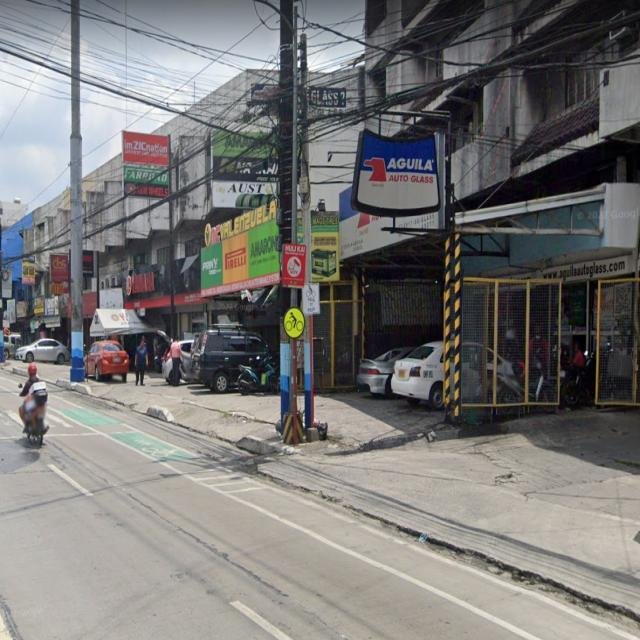bike lane: (282, 305, 308, 339)
